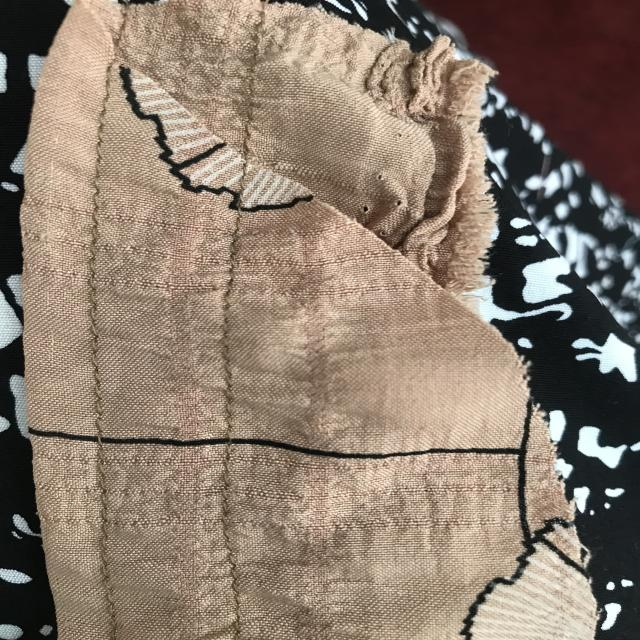good: (69, 188, 121, 429), (85, 456, 143, 623), (202, 246, 250, 412)
